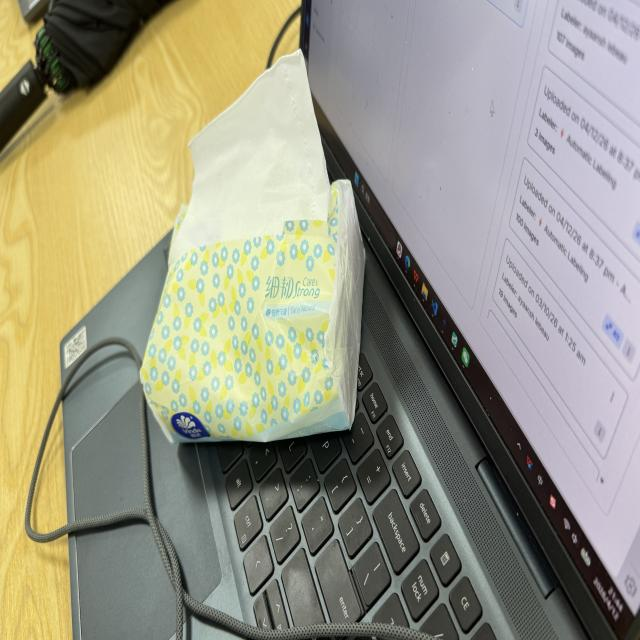tissue: (141, 53, 364, 441), (170, 51, 329, 263)
